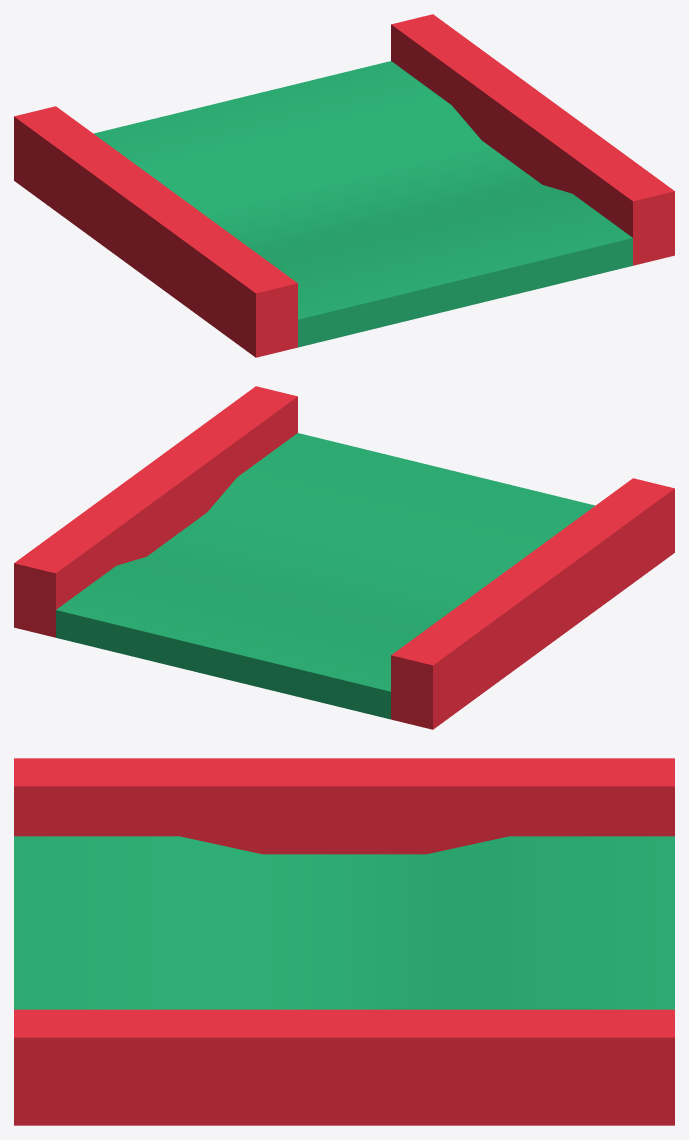
File: crest.fbx
The picture shows the model from 3 angles, top to bottom: view 1: azimuth 30°, elevation 25°; view 2: azimuth 150°, elevation 25°; view 3: azimuth 270°, elevation 25°; orthographic projection. The views are drawn at different scales.
Visible parts, largest first — view 1: crest; view 2: crest; view 3: crest.
Part boxes in pixels (<box>): crest: <box>14,14,674,357</box>; crest: <box>14,386,674,729</box>; crest: <box>14,758,674,1125</box>.
Bounding box in the file's own units: 10 × 1.47 × 10.
